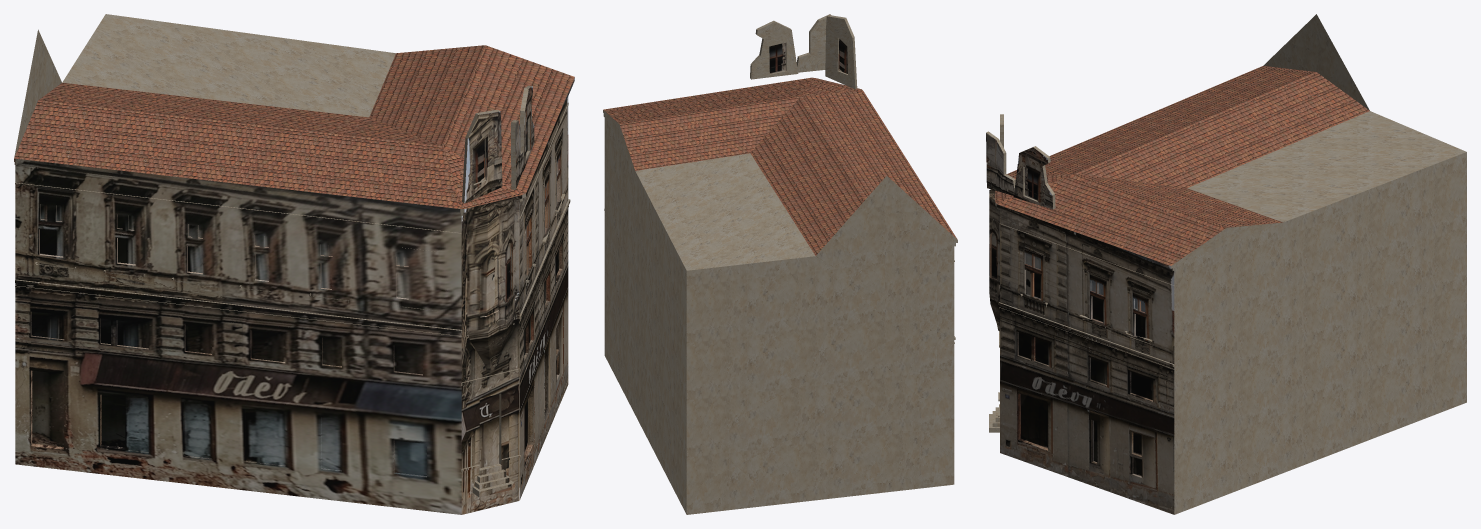
The picture shows the model from 3 angles, left to right: view 1: azimuth 30°, elevation 25°; view 2: azimuth 150°, elevation 25°; view 3: azimuth 270°, elevation 25°; orthographic projection. The views are drawn at different scales.
Parts seen in each view (by area): view 1: 174_000, B_opening_left_entry, B_opening_board3, B_ground_source_139, B_opening_board2, oriel_r24_wall_0, B_opening_shop_open, B_ground_source_132, B_ground_source_116, B_ground_source_24, B_ground_source_70, B_ground_source_168 (+38 smaller); view 2: 174_000, attic_back_corner_0_2, attic_source_pane_right; view 3: 174_000, A_ground_source_12, A_opening_left_shop, A_ground_source_26, A_ground_source_54, A_mezz_source_26, A_ground_source_9, A_ground_source_15, A_ground_source_20, A_ground_source_17, A_ground_source_29, A_ground_source_34 (+6 smaller).
Boxes of the visible parts, bbox=[...] form: 174_000: bbox=[14, 14, 574, 514]; B_opening_left_entry: bbox=[32, 370, 63, 446]; B_opening_board3: bbox=[246, 410, 285, 465]; B_ground_source_139: bbox=[342, 434, 393, 473]; B_opening_board2: bbox=[184, 402, 212, 458]; oriel_r24_wall_0: bbox=[467, 210, 480, 326]; B_opening_shop_open: bbox=[101, 395, 125, 447]; B_ground_source_132: bbox=[342, 382, 393, 411]; B_ground_source_116: bbox=[285, 428, 320, 465]; B_ground_source_24: bbox=[64, 403, 99, 440]; B_ground_source_70: bbox=[148, 412, 183, 449]; B_ground_source_168: bbox=[427, 444, 461, 481]; 174_000: bbox=[603, 77, 957, 514]; attic_back_corner_0_2: bbox=[825, 26, 837, 81]; attic_source_pane_right: bbox=[769, 42, 786, 73]; 174_000: bbox=[989, 14, 1466, 514]; A_ground_source_12: bbox=[1048, 373, 1090, 417]; A_opening_left_shop: bbox=[1021, 394, 1047, 447]; A_ground_source_26: bbox=[1097, 391, 1131, 431]; A_ground_source_54: bbox=[1141, 406, 1174, 446]; A_mezz_source_26: bbox=[1049, 343, 1089, 378]; A_ground_source_9: bbox=[1018, 362, 1047, 402]; A_ground_source_15: bbox=[1048, 404, 1090, 438]; A_ground_source_20: bbox=[1048, 451, 1090, 485]; A_ground_source_17: bbox=[1048, 427, 1090, 459]; A_ground_source_29: bbox=[1097, 422, 1131, 453]; A_ground_source_34: bbox=[1097, 468, 1131, 499].
Size of the model in its own units: 21.93 by 16.6 by 22.26.
Materials: 13 (13 with a texture image).
